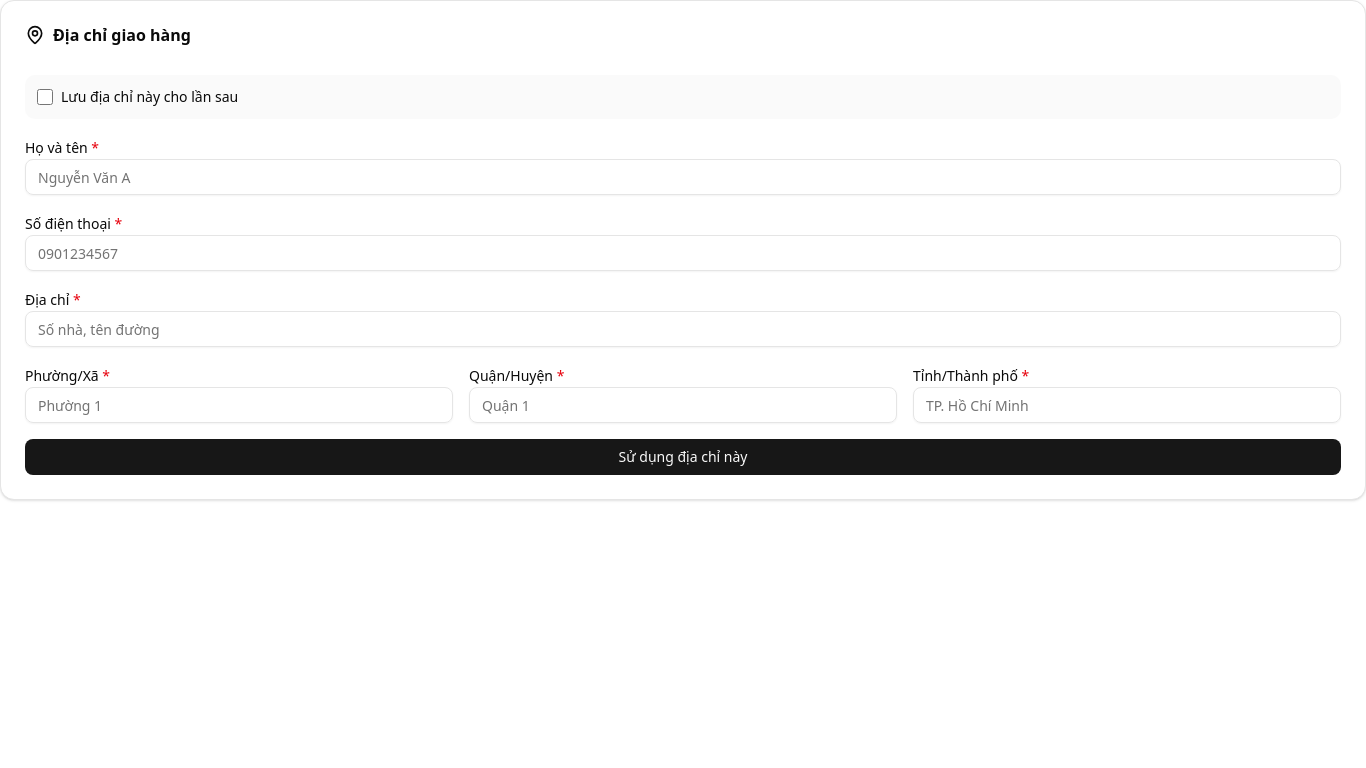
M06 AddressSelector label and error associations › connects invalid fields to their errors and focuses the first invalid field
Click the button "Sử dụng địa chỉ này": click(683, 457) [25,439,1341,475]
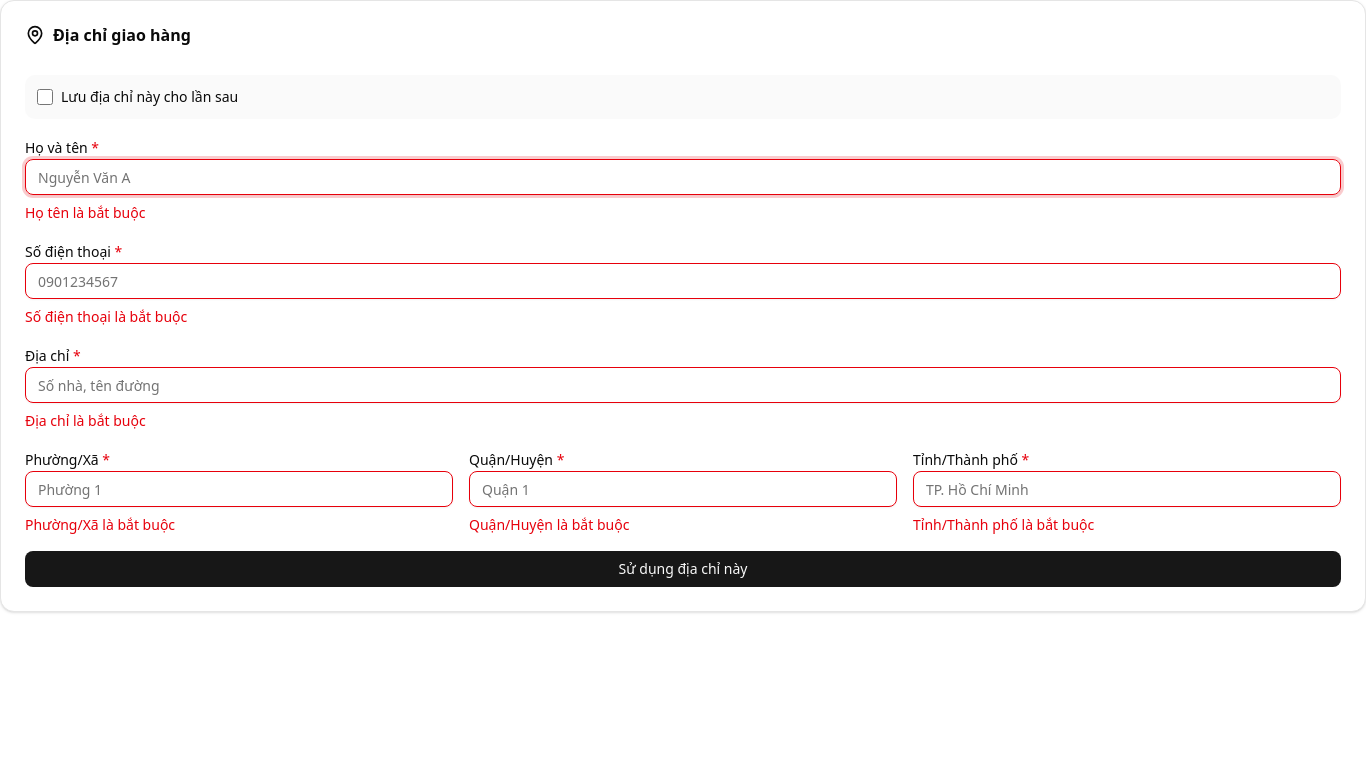
Result: the message with id "selector-fullName-error" reads "Họ tên là bắt buộc" at [25,203,146,222]
